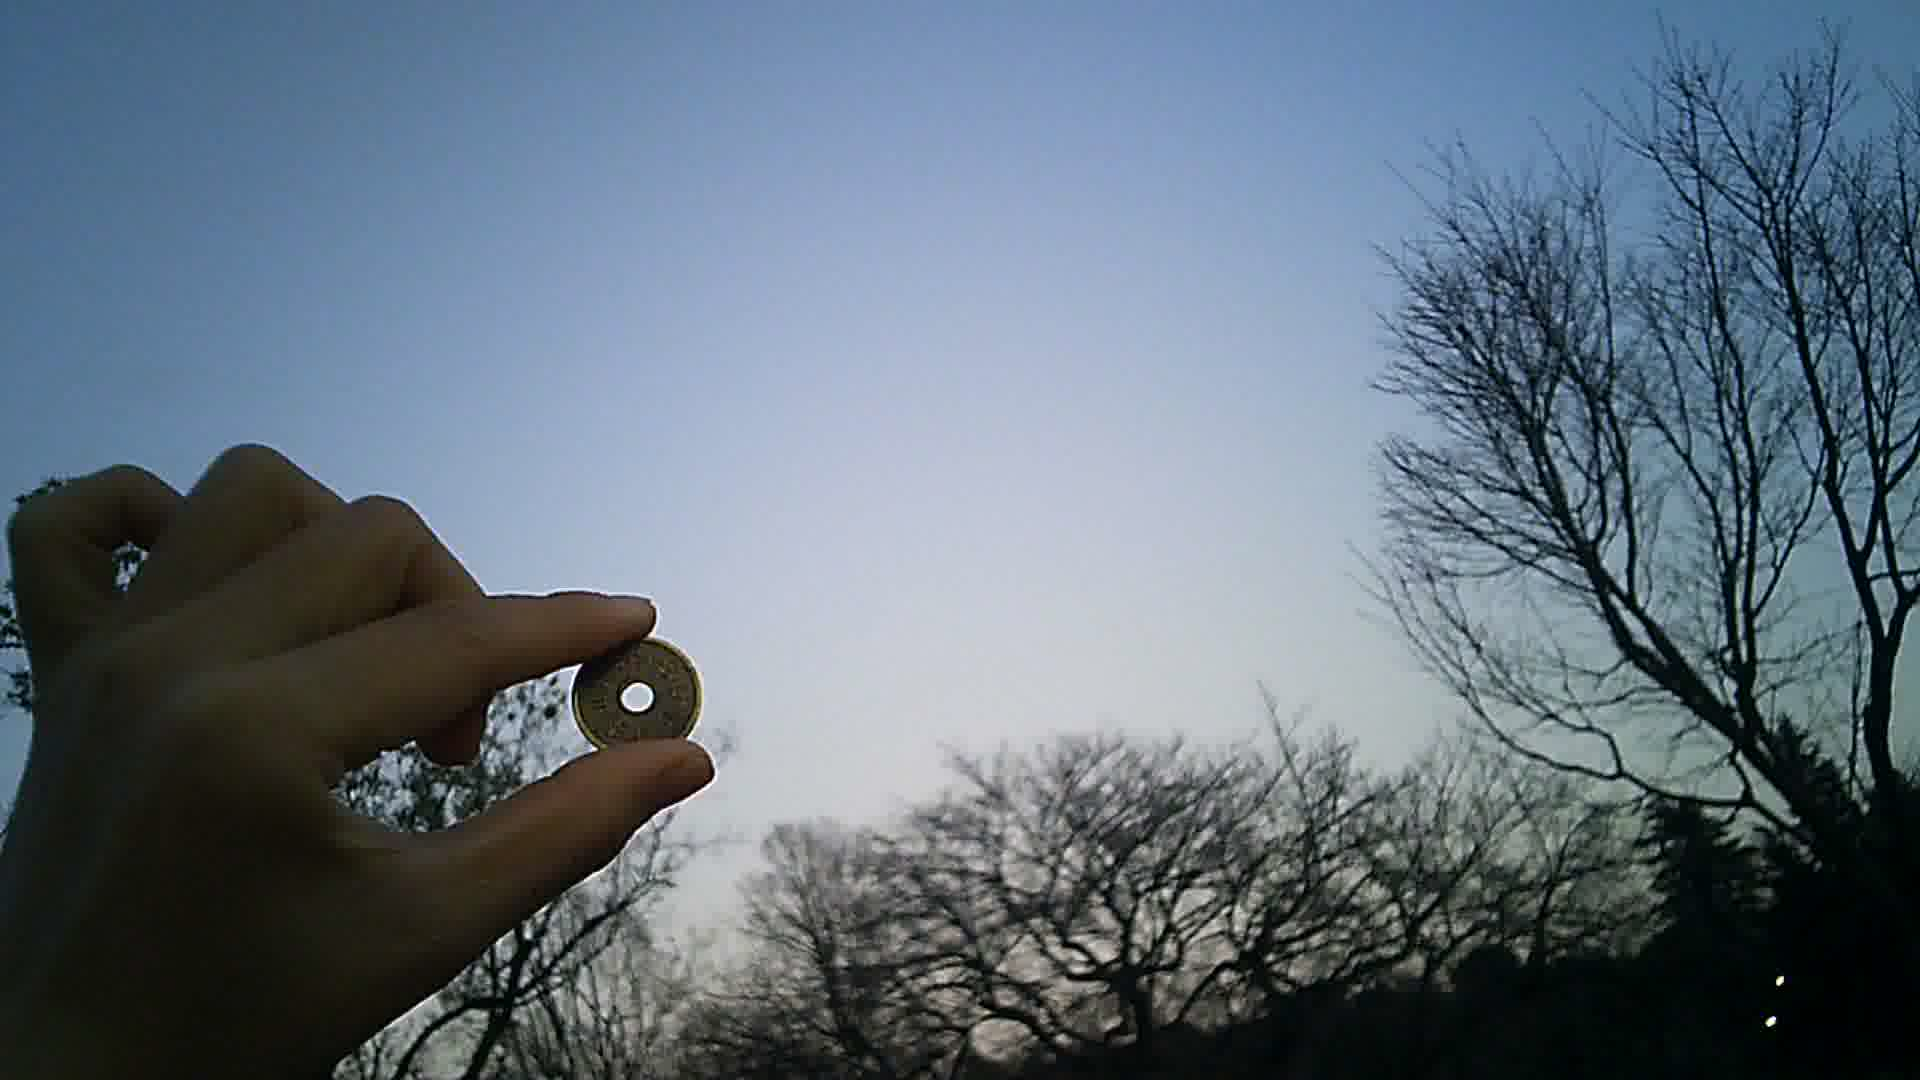5 Yen: (574, 633, 709, 761)
